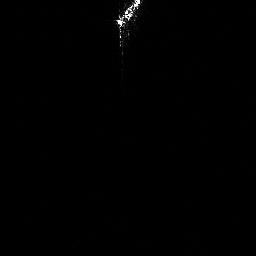ship: (112, 1, 144, 48)
